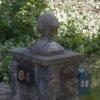Statue: (10, 8, 95, 80)
